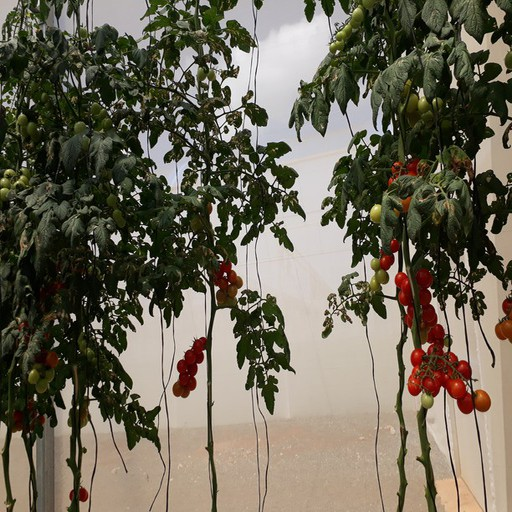green tomato bunch: (75, 103, 114, 145), (396, 90, 444, 123), (27, 353, 60, 391), (1, 164, 33, 201), (76, 333, 100, 363), (67, 394, 90, 425), (15, 116, 38, 136)
mixed tomato bunch: (362, 238, 401, 301)
red tomato bunch: (409, 345, 501, 416), (395, 269, 444, 343), (385, 158, 428, 213), (171, 335, 208, 396), (2, 391, 45, 433), (211, 260, 243, 313), (494, 286, 512, 343)
